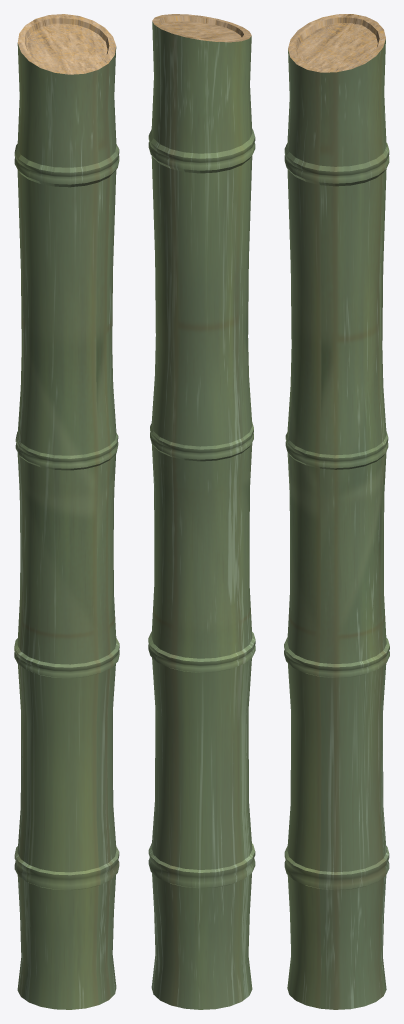
File: bamboo_alone.fbx
The picture shows the model from 3 angles, left to right: view 1: azimuth 30°, elevation 25°; view 2: azimuth 150°, elevation 25°; view 3: azimuth 330°, elevation 25°; orthographic projection.
Parts seen in each view (by area): view 1: bamboo_alone; view 2: bamboo_alone; view 3: bamboo_alone.
Part boxes in pixels (box(x1,y1,x2,y2)): bamboo_alone: box(14, 14, 119, 1009); bamboo_alone: box(148, 14, 255, 1009); bamboo_alone: box(284, 14, 389, 1009).
Bounding box in the file's own units: 1.8 × 18.12 × 1.8.
